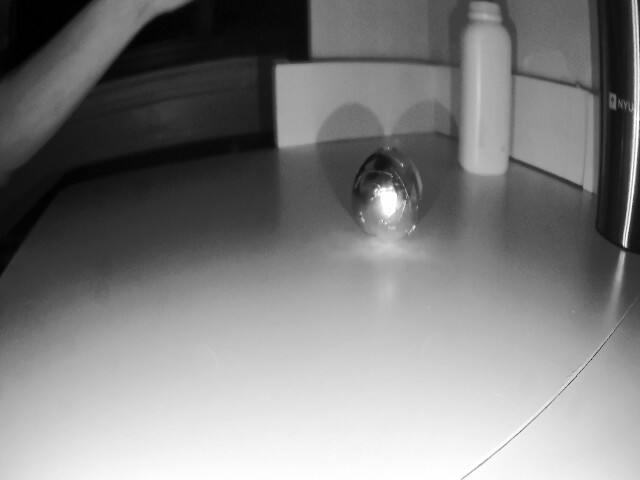black: (345, 143, 425, 245)
